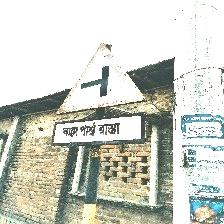Side-road-left: (55, 44, 155, 141)
